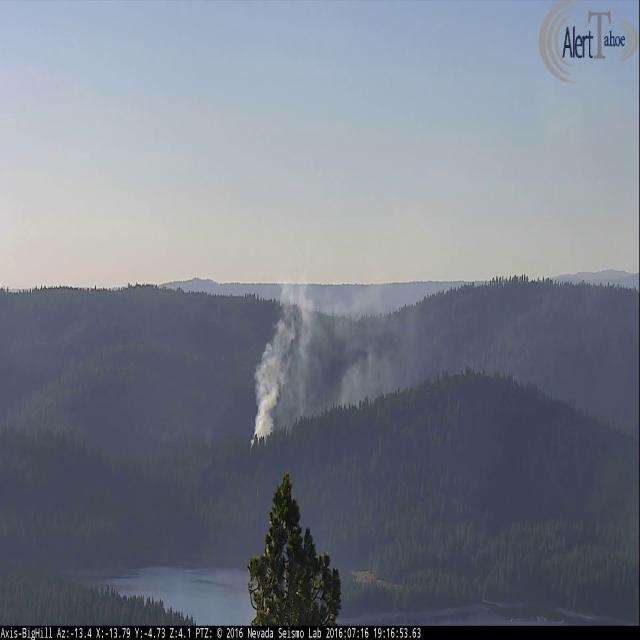smoke: (248, 224, 509, 446)
